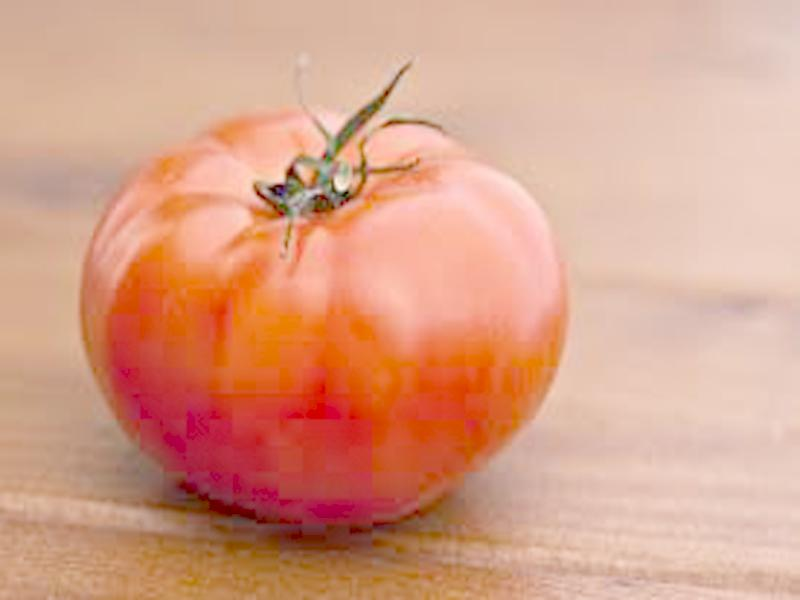Tomato: (81, 108, 573, 525)
